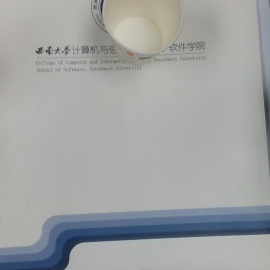cup: (99, 1, 185, 62)
